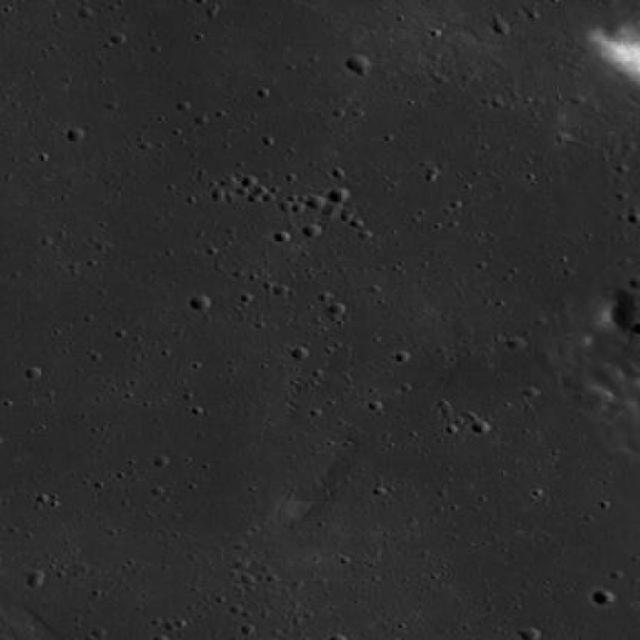crater: (343, 52, 369, 70), (592, 588, 616, 606), (328, 186, 350, 203)
